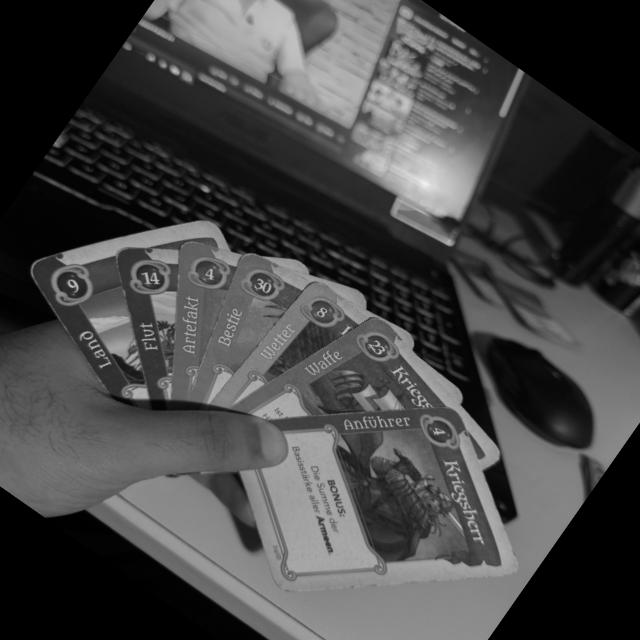Dragon: (184, 248, 309, 411)
Island: (118, 246, 180, 410)
Mountain: (26, 241, 151, 409)
Rainstorm: (205, 277, 369, 409)
Shield Of Keth: (170, 237, 242, 412)
Warlord: (238, 406, 523, 593)
Warship: (227, 313, 460, 420)
